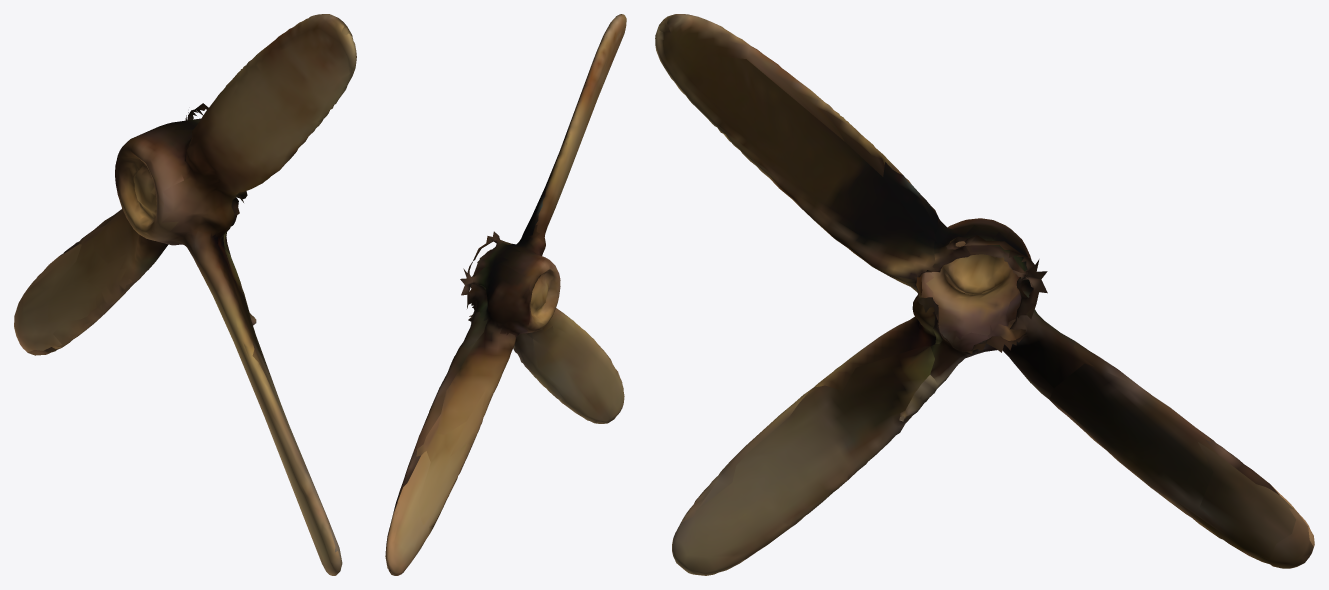
The model's file is elice.obj.
The picture shows the model from 3 angles, left to right: view 1: azimuth 30°, elevation 25°; view 2: azimuth 150°, elevation 25°; view 3: azimuth 270°, elevation 25°; orthographic projection. The views are drawn at different scales.
Visible parts, largest first — view 1: nave.002_Material.001; view 2: nave.002_Material.001; view 3: nave.002_Material.001.
Part boxes in pixels (left/top/right/bottom): nave.002_Material.001: left=14, top=14, right=356, bottom=575; nave.002_Material.001: left=385, top=14, right=626, bottom=575; nave.002_Material.001: left=655, top=14, right=1314, bottom=575.
Bounding box in the file's own units: 0.0432 × 0.2762 × 0.2957.
